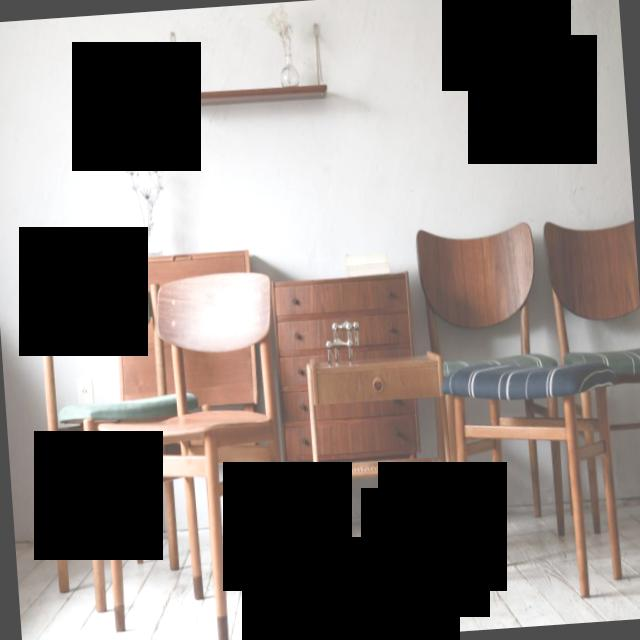chair vintage: (88, 269, 299, 640)
